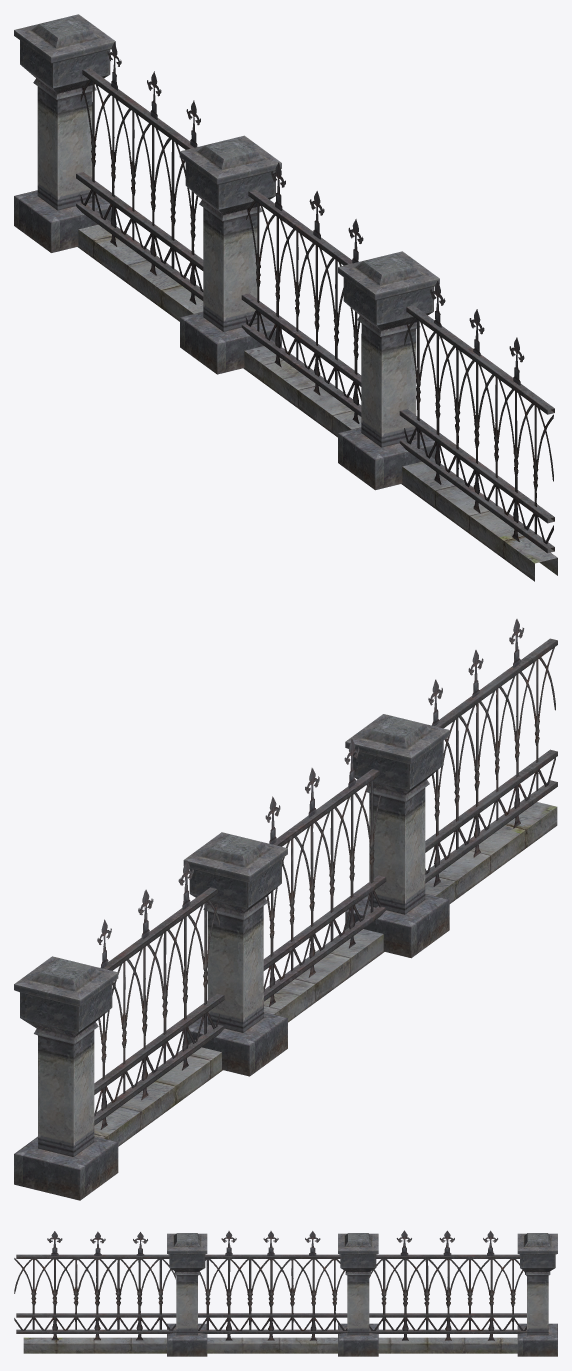
The model's file is bg_lut_lucastle_monument04a_sm_artree.FBX.
3 views of the same model, one above another, from view 1: azimuth 30°, elevation 25°; view 2: azimuth 150°, elevation 25°; view 3: azimuth 270°, elevation 25° (orthographic). The views are drawn at different scales.
Parts seen in each view (by area): view 1: bg_lut_lucastle_monument04a_sm_artree; view 2: bg_lut_lucastle_monument04a_sm_artree; view 3: bg_lut_lucastle_monument04a_sm_artree.
Part boxes in pixels (bbox=[...]): bg_lut_lucastle_monument04a_sm_artree: bbox=[14, 14, 557, 581]; bg_lut_lucastle_monument04a_sm_artree: bbox=[14, 619, 557, 1200]; bg_lut_lucastle_monument04a_sm_artree: bbox=[14, 1230, 557, 1356].
Bounding box in the file's own units: 27.99 × 92.41 × 376.
